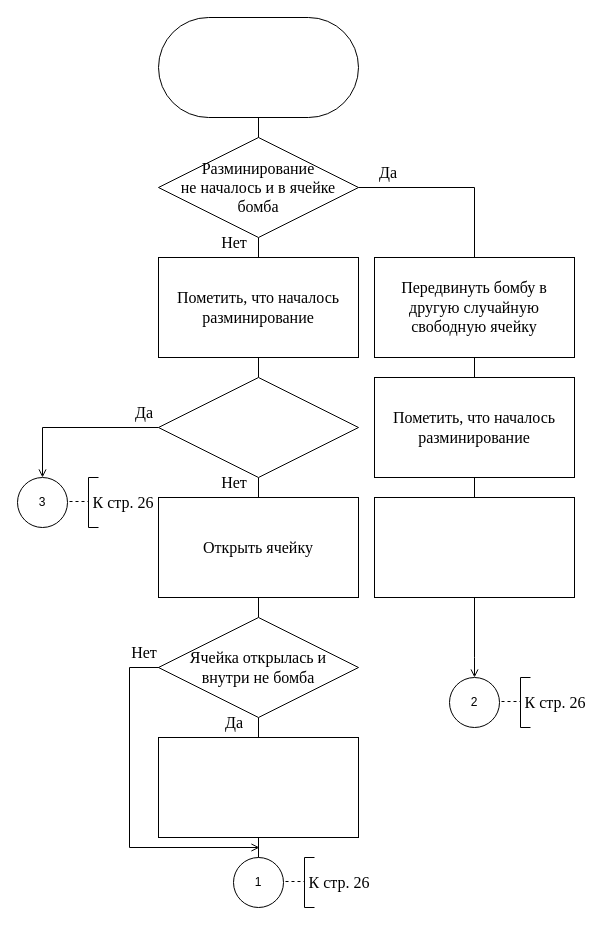
Some shapes in this 608 by 926 pixel diagram are drawn without their labels. The shapes that lost their labels are listed below. From the top down, each one's centre as x and y in pixels, then its label:
At point (258, 67): "Вход reveal(x, y)".
At point (258, 427): "Координаты за пределами поля или ячейка открыта".
At point (474, 547): "reveal(x, y)".
At point (258, 787): "Увеличить счетчик количества разминированных клеток".
